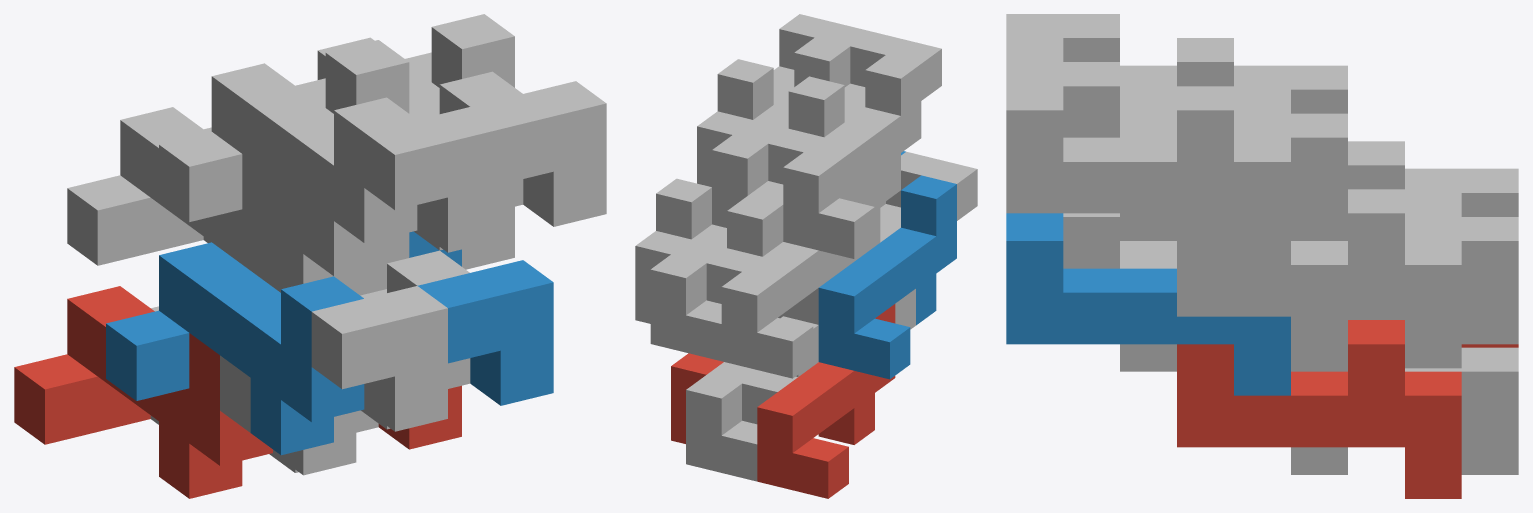
Rendered from tiling.obj.
3 renders of one model, left to right at view 1: azimuth 30°, elevation 25°; view 2: azimuth 150°, elevation 25°; view 3: azimuth 270°, elevation 25°, orthographic. The views are drawn at different scales.
Visible parts, largest first — view 1: copy_1_domain_4, copy_1_domain_2, copy_1_domain_1, copy_2_domain_4, copy_2_domain_8, copy_2_domain_2, copy_1_domain_3, copy_2_domain_6, copy_1_domain_8, copy_2_domain_1, copy_2_domain_3, copy_1_domain_6 (+2 smaller); view 2: copy_1_domain_2, copy_1_domain_4, copy_1_domain_1, copy_1_domain_3, copy_2_domain_4, copy_1_domain_8, copy_2_domain_8, copy_1_domain_7, copy_1_domain_5, copy_2_domain_3, copy_2_domain_7, copy_2_domain_2 (+2 smaller); view 3: copy_2_domain_8, copy_2_domain_5, copy_2_domain_7, copy_2_domain_6, copy_1_domain_8, copy_1_domain_7, copy_1_domain_5, copy_2_domain_4, copy_1_domain_4, copy_1_domain_6, copy_1_domain_3, copy_2_domain_3.
Boxes of the visible parts, <box> form: copy_1_domain_4: <box>159,63,417,276</box>; copy_1_domain_2: <box>106,242,364,455</box>; copy_1_domain_1: <box>14,286,272,498</box>; copy_2_domain_4: <box>295,40,500,252</box>; copy_2_domain_8: <box>405,14,606,226</box>; copy_2_domain_2: <box>273,232,447,431</box>; copy_1_domain_3: <box>67,107,272,286</box>; copy_2_domain_6: <box>409,231,553,405</box>; copy_1_domain_8: <box>317,37,523,250</box>; copy_2_domain_1: <box>150,306,356,475</box>; copy_2_domain_3: <box>203,127,409,295</box>; copy_1_domain_6: <box>360,250,470,429</box>; copy_1_domain_2: <box>818,175,956,379</box>; copy_1_domain_4: <box>783,55,921,258</box>; copy_1_domain_1: <box>757,304,895,498</box>; copy_1_domain_3: <box>721,183,859,378</box>; copy_2_domain_4: <box>768,31,941,184</box>; copy_1_domain_8: <box>712,38,850,227</box>; copy_2_domain_8: <box>697,14,870,186</box>; copy_1_domain_7: <box>650,224,726,361</box>; copy_1_domain_5: <box>686,362,759,481</box>; copy_2_domain_3: <box>706,168,880,303</box>; copy_2_domain_7: <box>635,178,711,323</box>; copy_2_domain_2: <box>860,151,977,257</box>; copy_2_domain_8: <box>1006,62,1290,264</box>; copy_2_domain_5: <box>1177,320,1461,498</box>; copy_2_domain_7: <box>1177,189,1461,368</box>; copy_2_domain_6: <box>1006,213,1290,395</box>; copy_1_domain_8: <box>1063,62,1347,240</box>; copy_1_domain_7: <box>1291,217,1518,344</box>; copy_1_domain_5: <box>1291,347,1518,474</box>; copy_2_domain_4: <box>1006,14,1290,113</box>; copy_1_domain_4: <box>1063,14,1347,113</box>; copy_1_domain_6: <box>1063,213,1347,371</box>; copy_1_domain_3: <box>1405,168,1518,216</box>; copy_2_domain_3: <box>1348,141,1461,216</box>.
Size of the model in its own units: 6 by 8 by 9.
